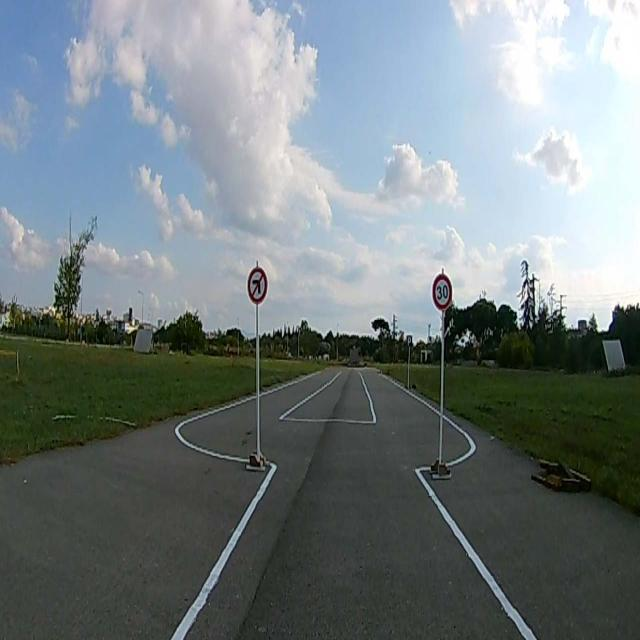30: (432, 273, 452, 309)
soladonulmez: (248, 267, 268, 303)
